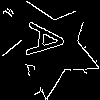A: (26, 21, 75, 61)
